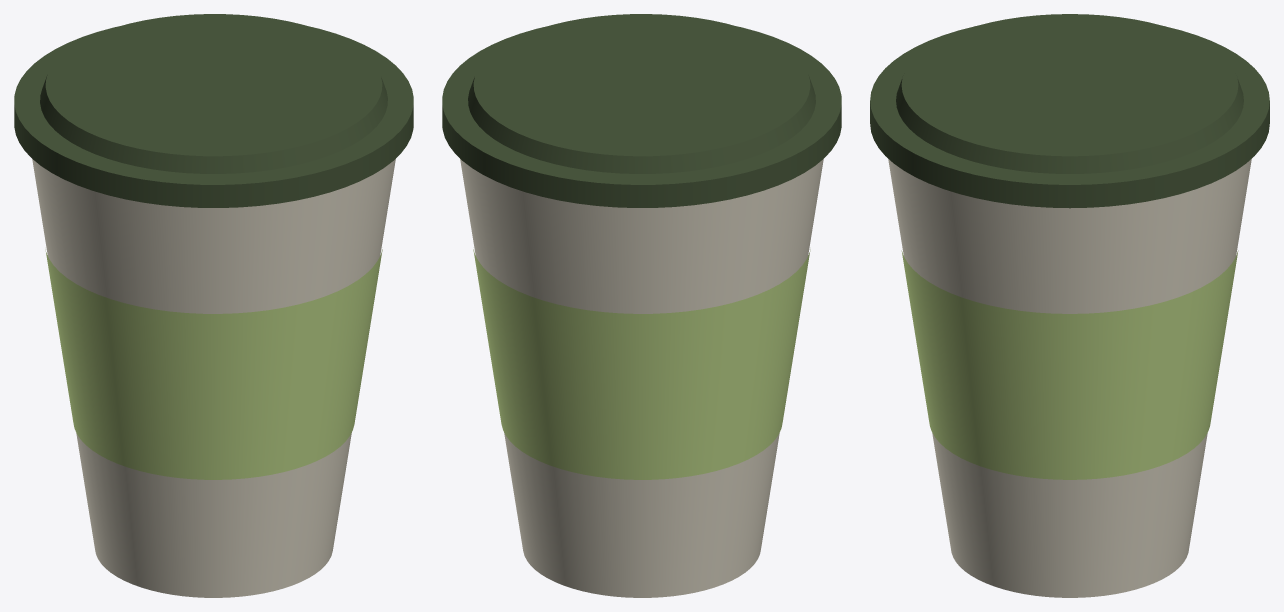
File: cup_12oz.glb
3 views of the same model, side by side, from view 1: azimuth 30°, elevation 25°; view 2: azimuth 150°, elevation 25°; view 3: azimuth 270°, elevation 25° (orthographic).
Parts seen in each view (by area): view 1: cup_12oz; view 2: cup_12oz; view 3: cup_12oz.
Boxes of the visible parts, x1,y1,x2,y2 form: cup_12oz: [14, 14, 413, 597]; cup_12oz: [442, 14, 841, 597]; cup_12oz: [870, 14, 1269, 597].
Bounding box in the file's own units: 0.094 × 0.12 × 0.094.
